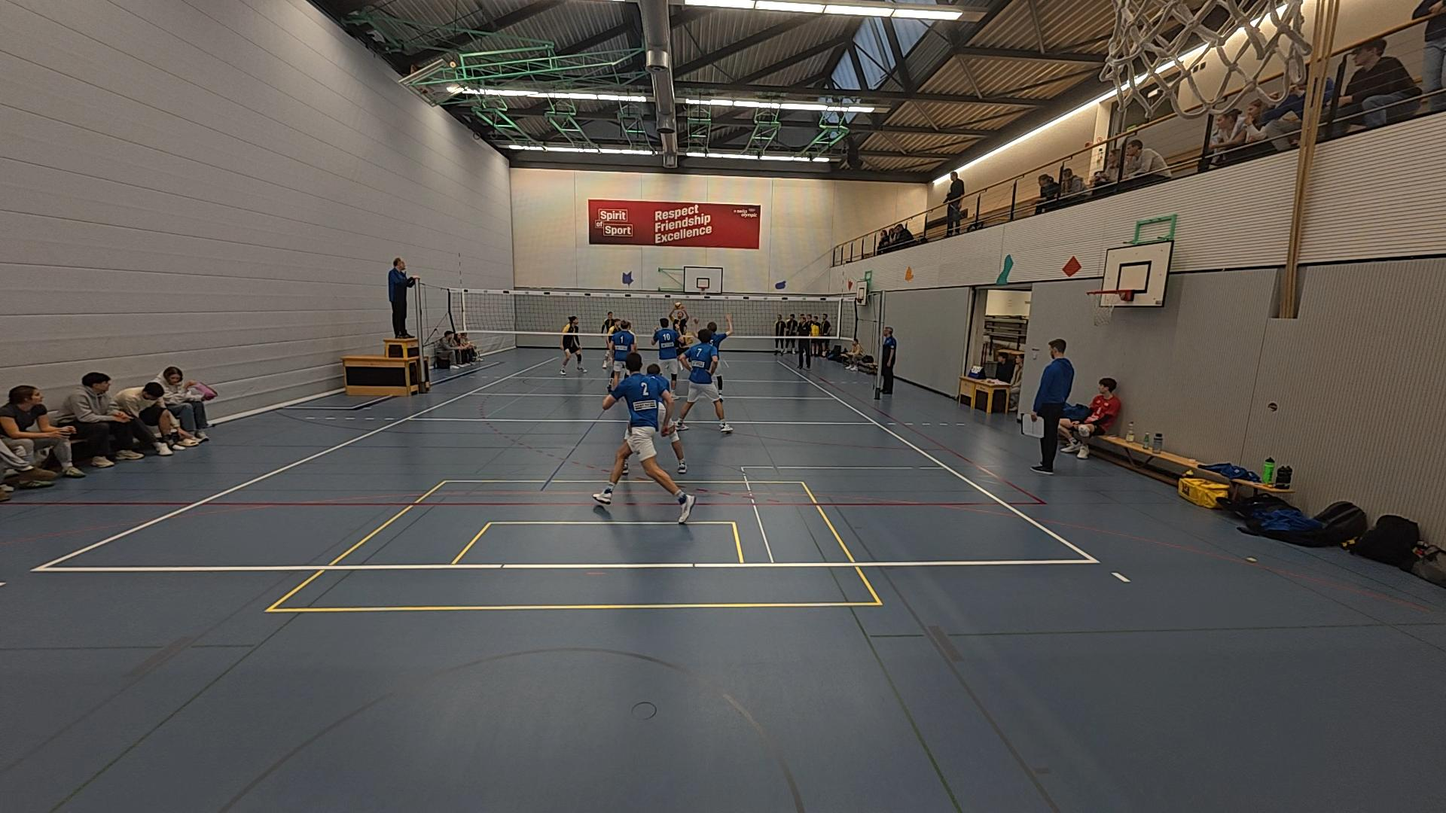Player: (601, 351, 692, 519), (620, 363, 688, 476), (670, 321, 731, 433), (692, 314, 736, 403), (604, 321, 639, 400), (651, 315, 684, 380), (559, 314, 587, 374), (602, 317, 628, 372), (599, 309, 621, 353)
Receive: (667, 300, 692, 352)
ball: (901, 265, 916, 280), (673, 301, 684, 310)
